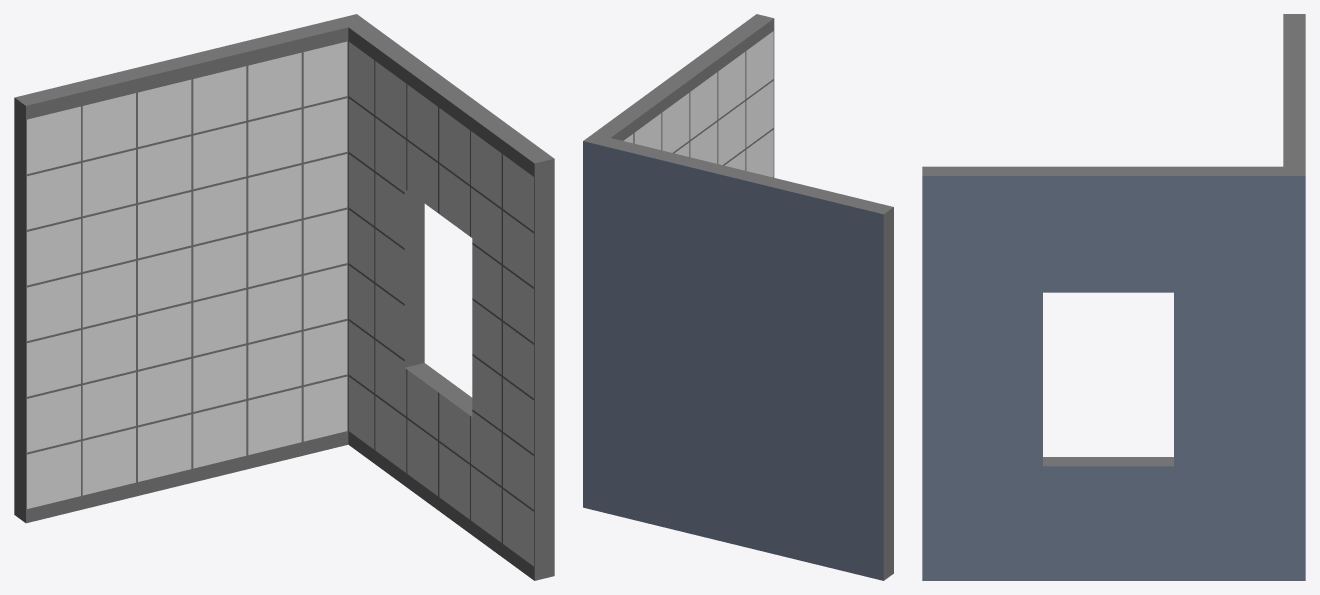
The model's file is Wall3_C7_08.fbx.
3 views of the same model, side by side, from view 1: azimuth 30°, elevation 25°; view 2: azimuth 150°, elevation 25°; view 3: azimuth 270°, elevation 25° (orthographic). The views are drawn at different scales.
Parts seen in each view (by area): view 1: Wall3_C7_08; view 2: Wall3_C7_08; view 3: Wall3_C7_08.
Part boxes in pixels (x1,y1,x2,y2): Wall3_C7_08: (14, 14, 554, 580); Wall3_C7_08: (583, 14, 893, 580); Wall3_C7_08: (922, 14, 1305, 580).
Bounding box in the file's own units: 258 × 300 × 258.
